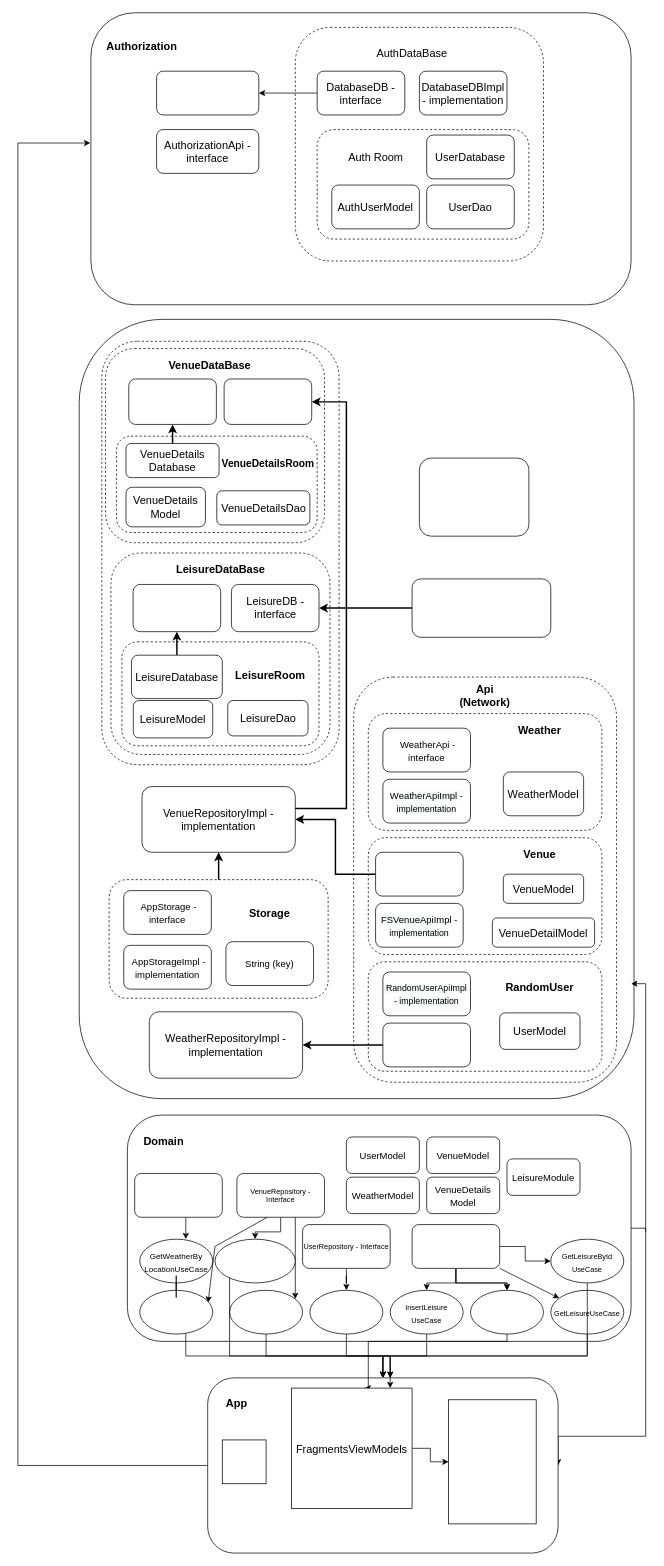
Some shapes in this 664 by 1566 pixel diagram are drawn without their labels. Here are the shapes that lost their labels. From the top down, the centre of each, then its label:
At (x=207, y=92): "AuthorizationApiImpl - implementation".
At (x=172, y=401): "DetailsDBImpl - implementation".
At (x=267, y=401): "DetailsDB - interface".
At (x=474, y=496): "Mappers".
At (x=176, y=608): "LeisureDBImpl - implementation".
At (x=481, y=607): "LeisureRepositoryImpl - implementation".
At (x=419, y=874): "FSVenueApi - interface".
At (x=426, y=1044): "RandomUserApi - interface".
At (x=178, y=1195): "WeatherRepository - Interface".
At (x=254, y=1260): "DeleteVenuesUseCase".
At (x=455, y=1246): "LeisureRepository - Interface".
At (x=176, y=1312): "GetVenueBy LocationUseCase".
At (x=266, y=1312): "GetVenueDetails UseCase".
At (x=346, y=1312): "GetRandomUser UseCase".
At (x=506, y=1312): "DeleteLeisure UseCase".
At (x=244, y=1461): "DI".
At (x=492, y=1461): "Activity".
